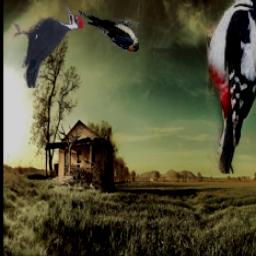Swallow: (80, 12, 140, 53)
Woodpecker: (208, 0, 256, 174), (12, 6, 85, 88)
